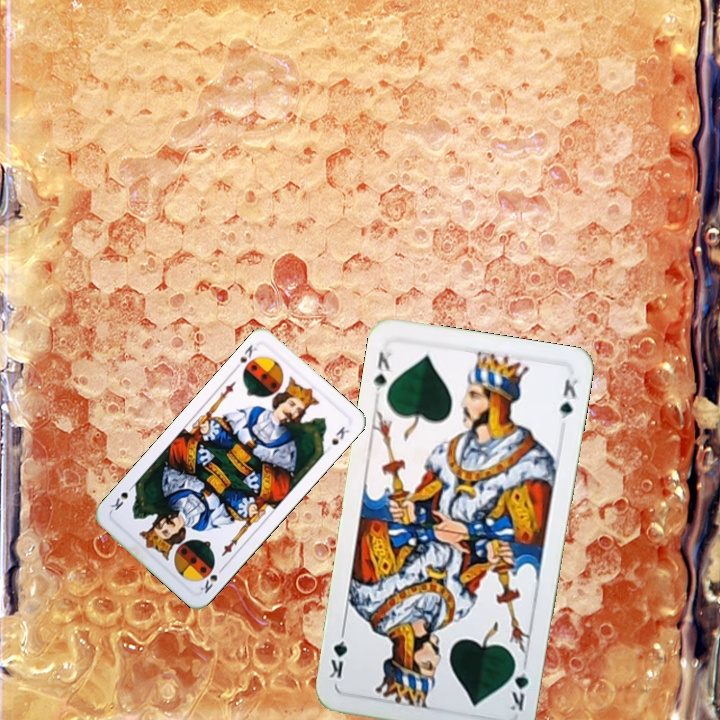GK: (505, 656, 532, 714), (369, 347, 396, 402)
SK: (196, 562, 227, 596), (230, 340, 260, 373)
